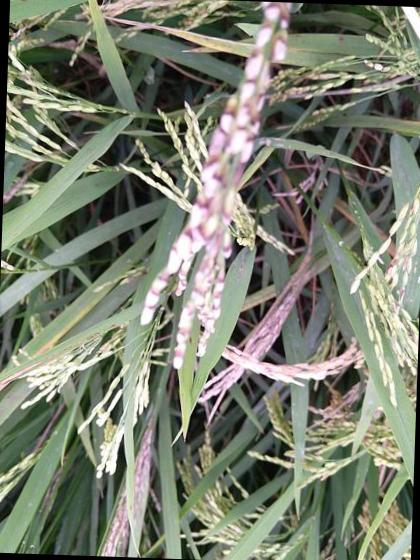Panicle Blight: (140, 2, 292, 363), (221, 337, 364, 385), (233, 279, 310, 359), (103, 0, 222, 29), (384, 238, 417, 308), (99, 497, 127, 557), (135, 426, 151, 524), (203, 363, 245, 393), (406, 195, 419, 215)
